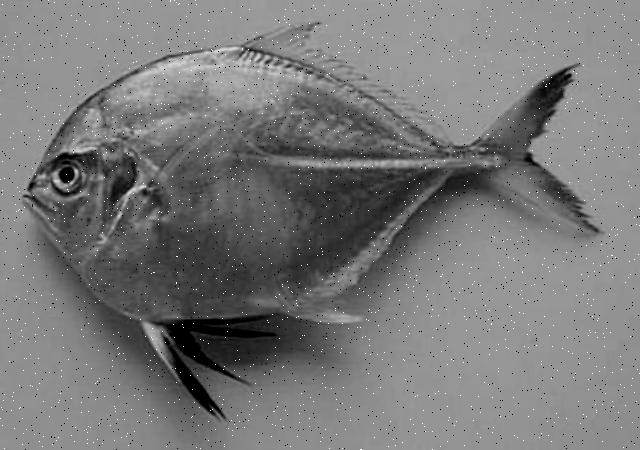Mulut: (14, 168, 56, 220)
Sirip Anal: (279, 167, 487, 365)
Sirip Dada: (138, 119, 248, 219)
Sirip Ekor: (474, 49, 612, 257)
Sirip Perut: (136, 303, 280, 431)
Sirip Punggung: (233, 11, 461, 154)
